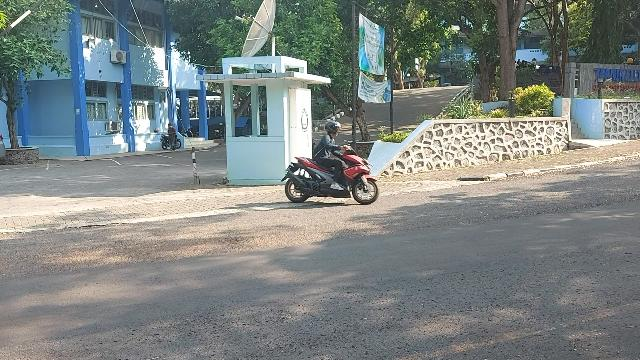helm: (326, 122, 343, 137)
motor: (282, 141, 380, 206)
